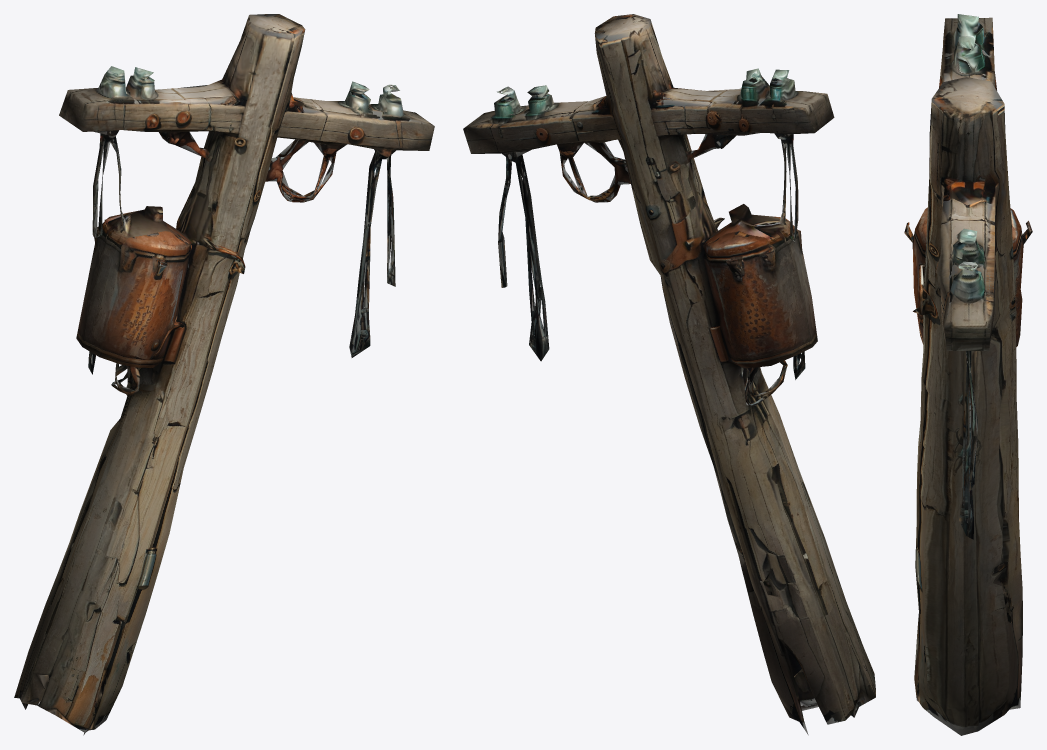
Rendered from EX_Env_Pole.fbx.
3 views of the same model, side by side, from view 1: azimuth 30°, elevation 25°; view 2: azimuth 150°, elevation 25°; view 3: azimuth 270°, elevation 25° (orthographic). The views are drawn at different scales.
Parts seen in each view (by area): view 1: texture_mapping; view 2: texture_mapping; view 3: texture_mapping.
Boxes of the visible parts, x1=… form: texture_mapping: x1=14, y1=14, x2=434, y2=735; texture_mapping: x1=463, y1=14, x2=875, y2=735; texture_mapping: x1=904, y1=14, x2=1032, y2=735.
Size of the model in its own units: 0.6536 by 0.1595 by 1.01.
1 material, 1 textured.
